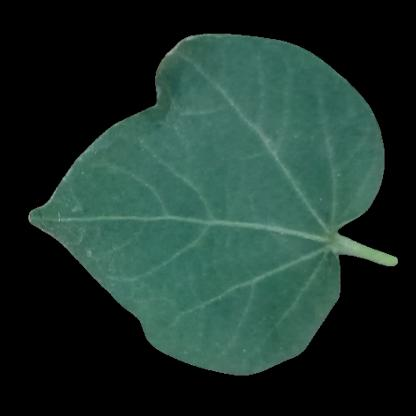healthy: (185, 61, 325, 245), (89, 157, 184, 270), (195, 259, 291, 355), (128, 272, 185, 322)
